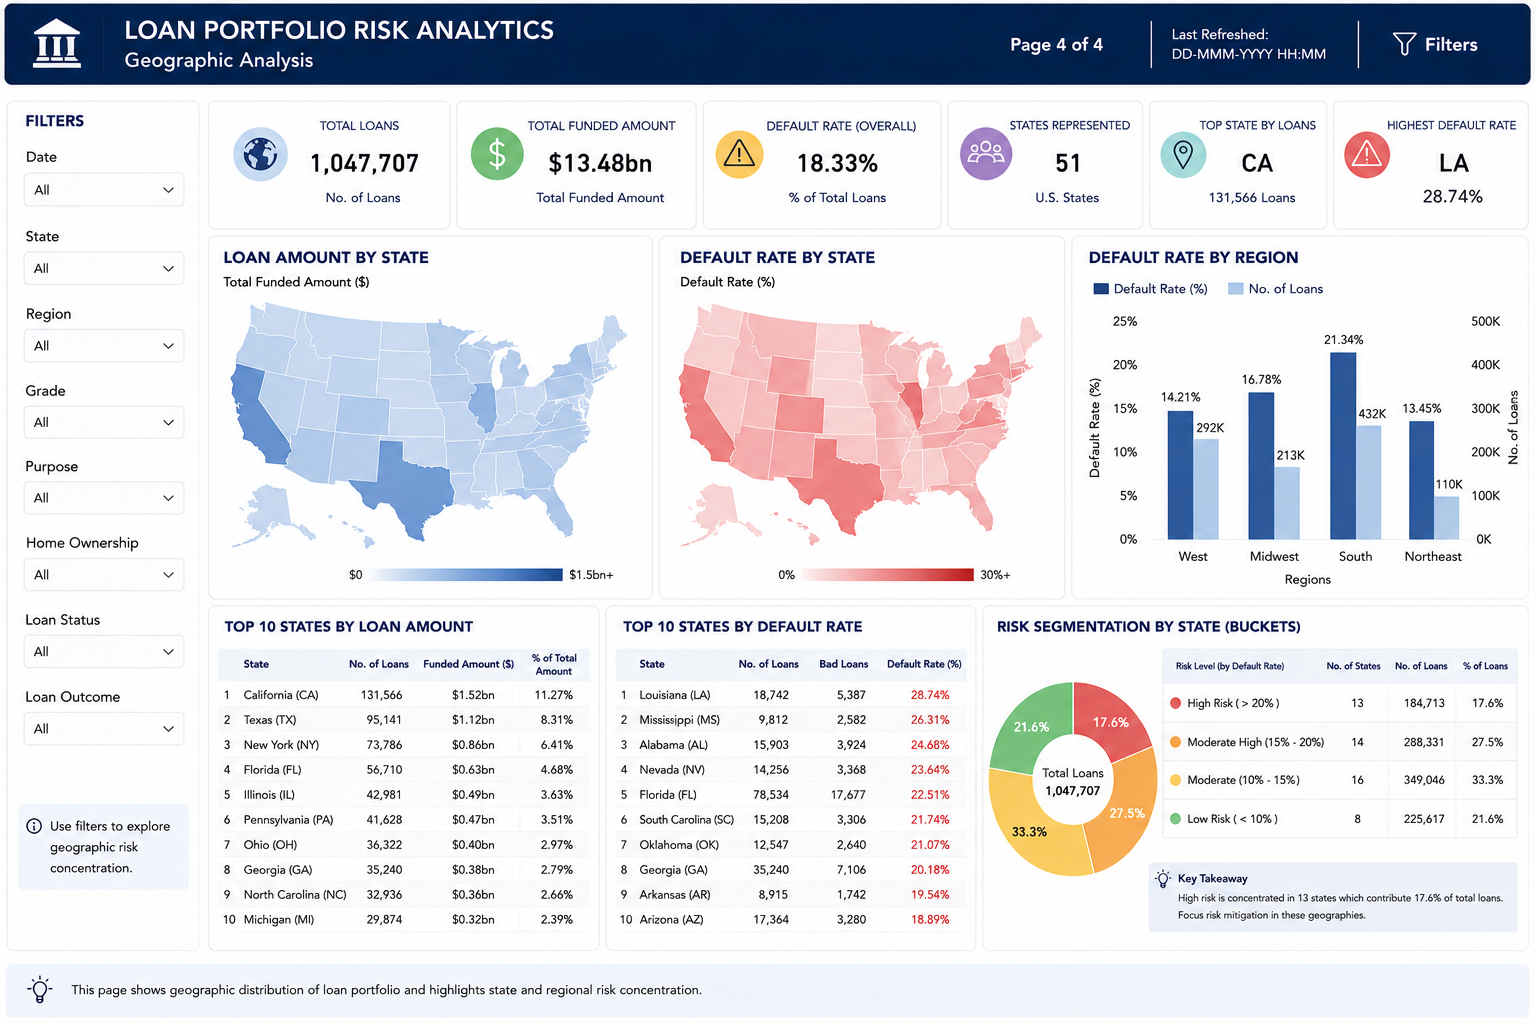

The dashboard page shown, as its layout file describes it:
{"tool":"powerbi","page":{"name":"Geographic Analysis","canvas":[1920,1080],"ordinal":3},"visuals":[{"type":"image","box":[0,0,1910,1080],"z":0}]}

Visuals, with their boxes on the page's 1920x1080 design canvas (x1, y1, x2, y2). These are canvas units, not pixel positions in the 1536x1024 screenshot, which may show the page scaled, cropped or inside an application window:
image: region(0, 0, 1910, 1080)
